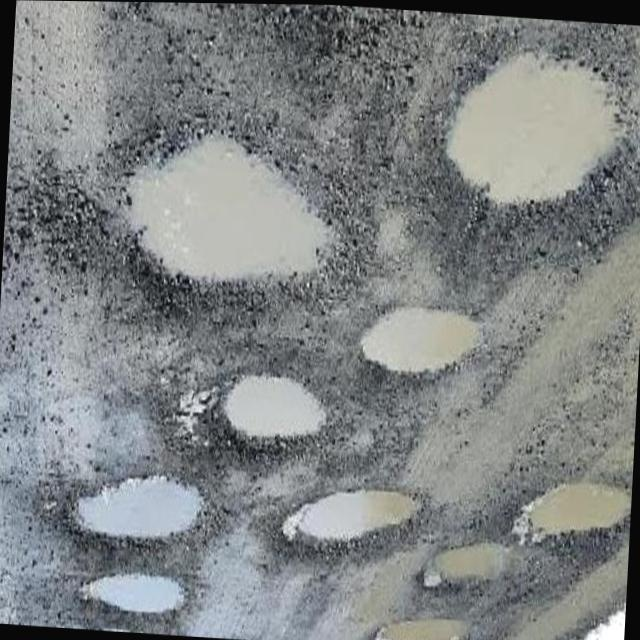pothole: (114, 122, 339, 292), (453, 43, 616, 208), (64, 467, 199, 547), (366, 300, 483, 382), (220, 352, 318, 444), (284, 478, 413, 546), (530, 458, 630, 538), (80, 566, 193, 628), (436, 534, 508, 585), (374, 613, 476, 640)
